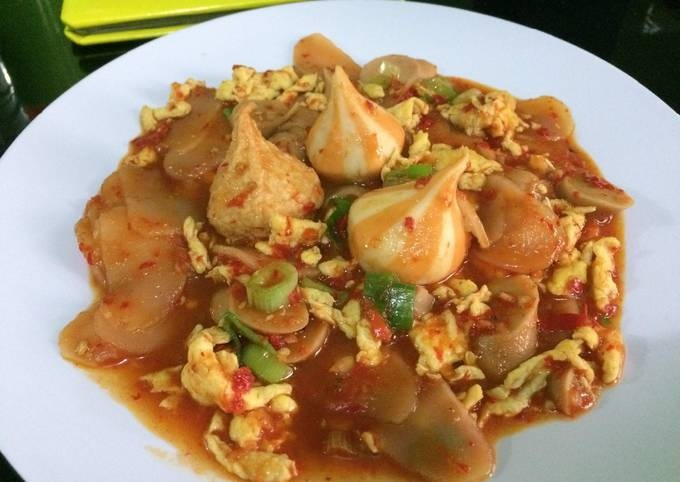seblak: (59, 34, 639, 482)
